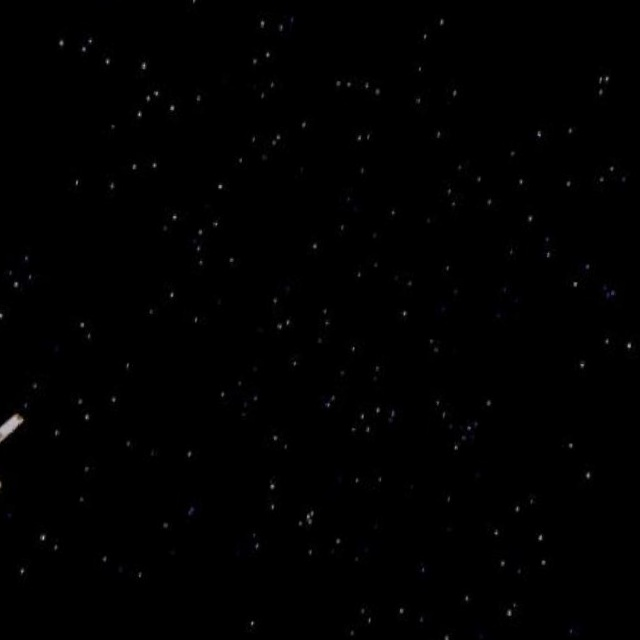satellite: (0, 397, 28, 541)
